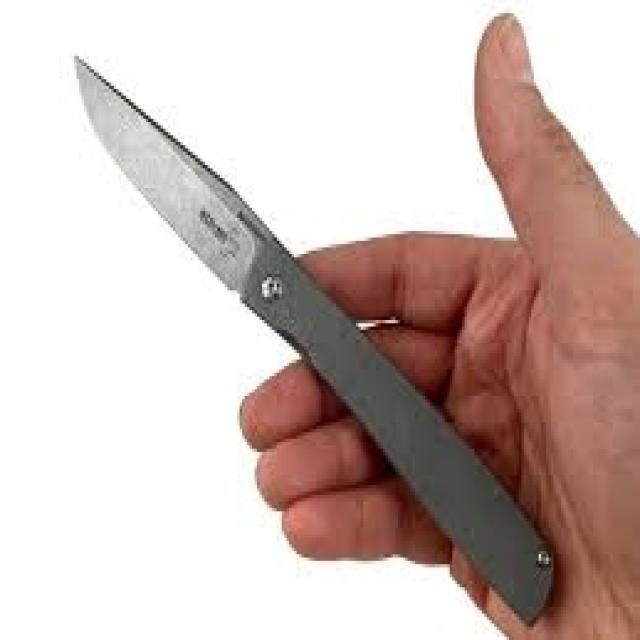knives: (67, 46, 561, 630)
